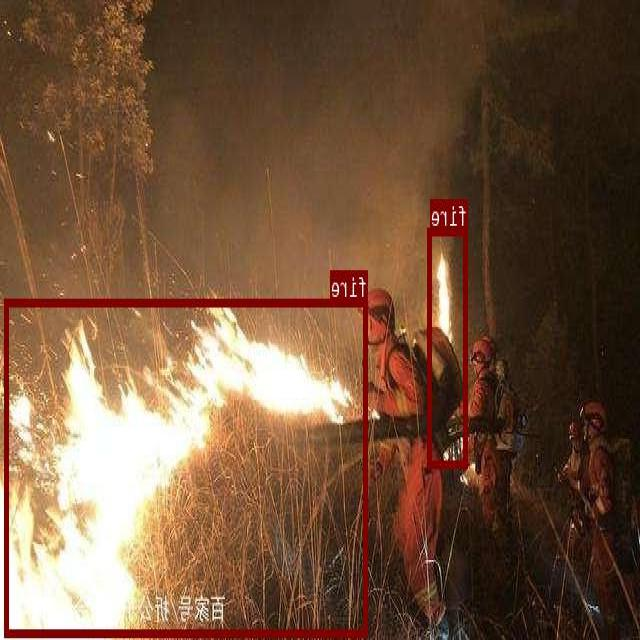fire: (6, 298, 369, 635), (428, 226, 469, 466)
